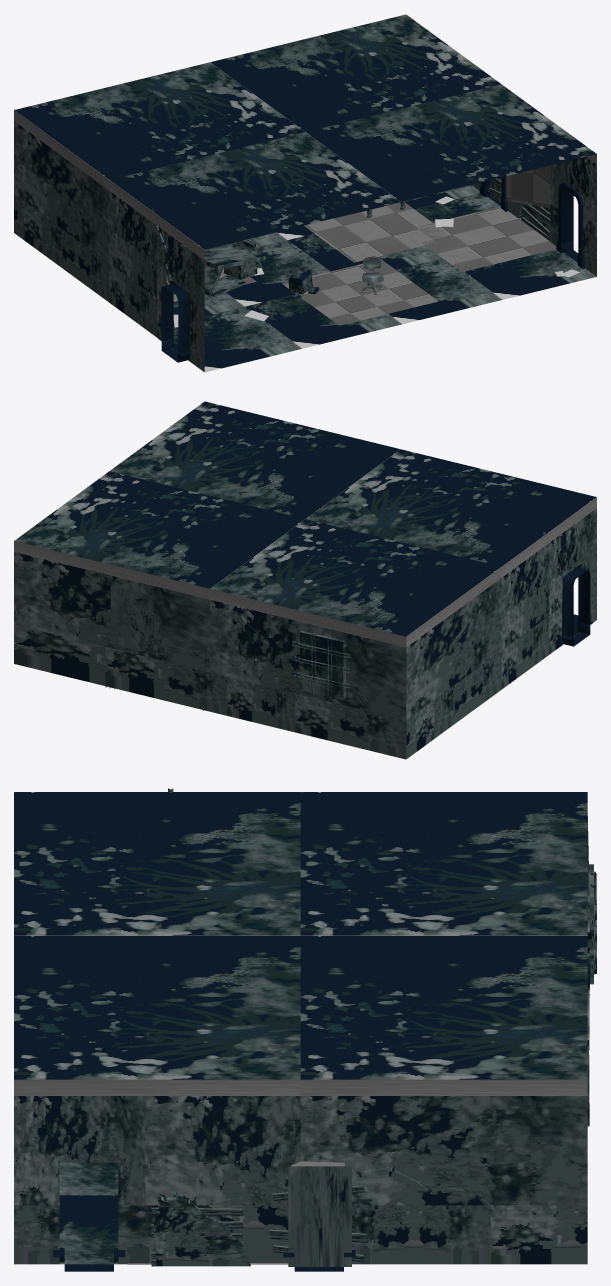
File: MSH_QuestStandard_L1_R2_optimized.fbx
3 views of the same model, one above another, from view 1: azimuth 30°, elevation 25°; view 2: azimuth 150°, elevation 25°; view 3: azimuth 270°, elevation 25° (orthographic). The views are drawn at different scales.
Visible parts, largest first — view 1: MSH_QuestStandard_L1_R2_ceiling_01, lightmap2, lightmap4, MSH_QuestStandard_L1_R2_DirtPlanes_01, lightmap3, MSH_QuestStandard_L1_R2_R2_01_Papers_01; view 2: MSH_QuestStandard_L1_R2_ceiling_01, lightmap4, lightmap2, lightmap3; view 3: MSH_QuestStandard_L1_R2_ceiling_01, lightmap4, lightmap2, lightmap3.
Part boxes in pixels (x1=…): MSH_QuestStandard_L1_R2_ceiling_01: x1=14, y1=14, x2=596, y2=249; lightmap2: x1=152, y1=176, x2=596, y2=372; lightmap4: x1=14, y1=110, x2=596, y2=371; MSH_QuestStandard_L1_R2_DirtPlanes_01: x1=173, y1=165, x2=556, y2=325; lightmap3: x1=149, y1=178, x2=550, y2=310; MSH_QuestStandard_L1_R2_R2_01_Papers_01: x1=173, y1=196, x2=579, y2=327; MSH_QuestStandard_L1_R2_ceiling_01: x1=14, y1=401, x2=596, y2=636; lightmap4: x1=14, y1=497, x2=596, y2=759; lightmap2: x1=110, y1=532, x2=593, y2=700; lightmap3: x1=105, y1=614, x2=547, y2=710; MSH_QuestStandard_L1_R2_ceiling_01: x1=14, y1=792, x2=587, y2=1079; lightmap4: x1=14, y1=816, x2=593, y2=1266; lightmap2: x1=53, y1=788, x2=355, y2=1271; lightmap3: x1=151, y1=871, x2=596, y2=1266.
Size of the model in its own units: 20.61 by 6.13 by 16.78.
